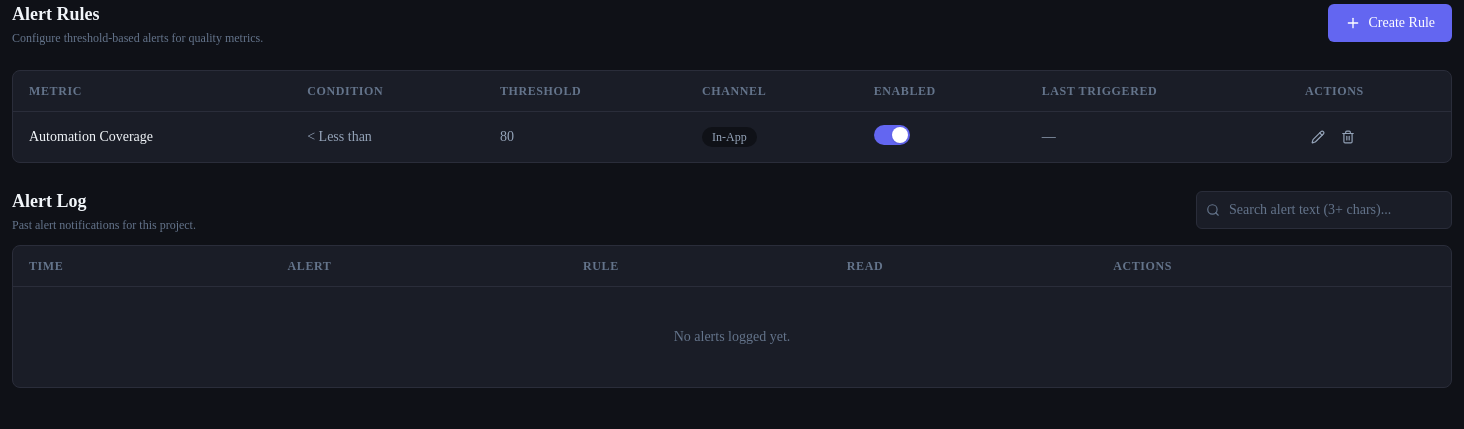
Scenario: AlertRulesPage › shows the demo warning instead of opening the create modal in demo mode
Click the button "Create Rule": (1390, 23) 1328,4 -> 1452,42
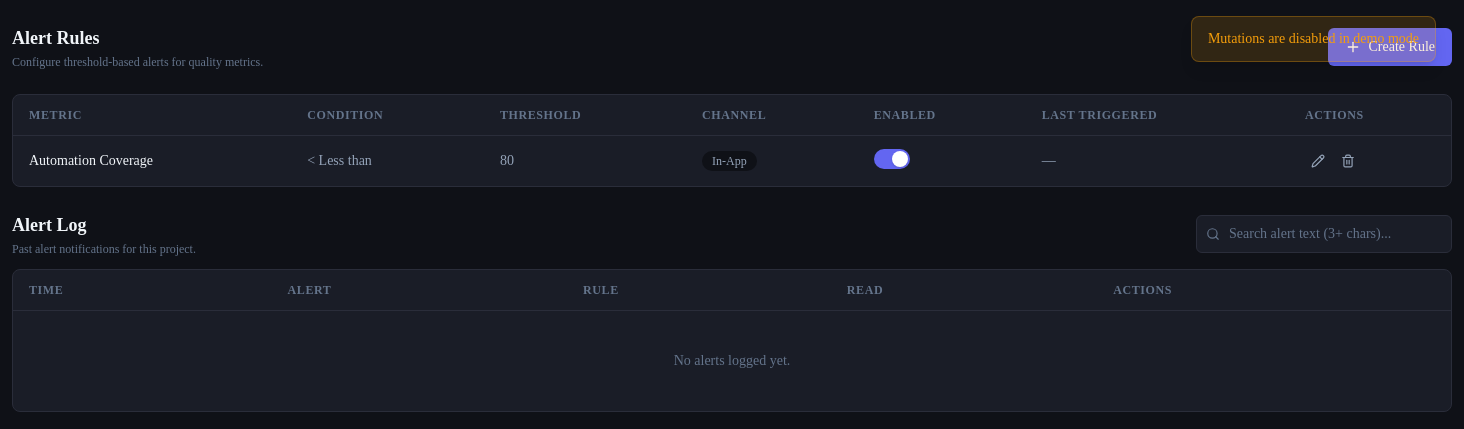
Expected: the text "Mutations are disabled in demo mode" is shown, 1191,16 -> 1436,62
